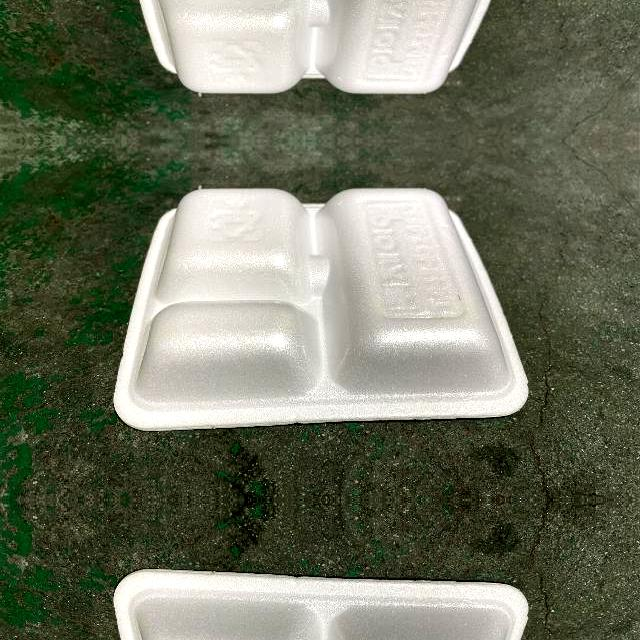Styrofoam: (113, 187, 529, 430), (113, 187, 527, 429), (113, 0, 527, 93), (139, 0, 491, 93), (113, 568, 529, 640), (113, 569, 527, 640)
